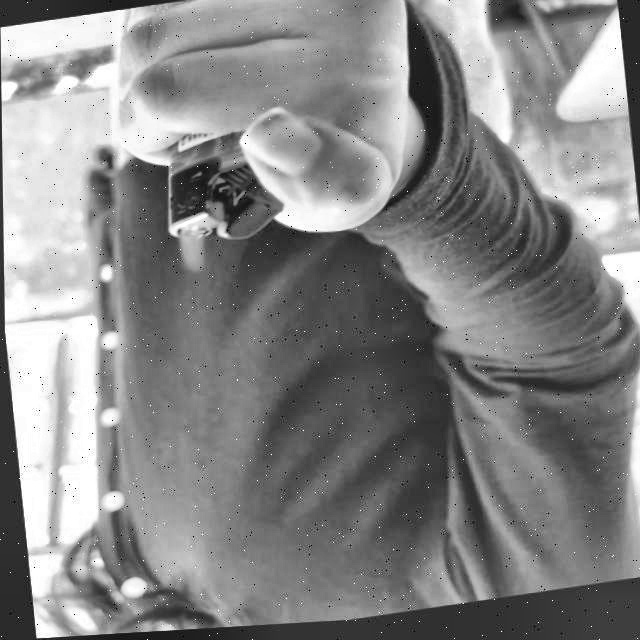Fire: (176, 228, 210, 283)
